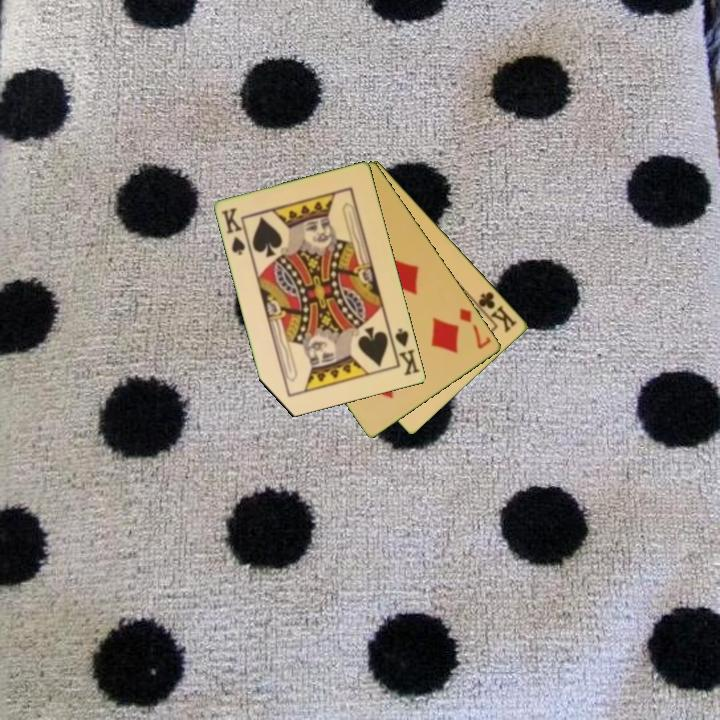7d: (456, 305, 494, 352)
Kc: (470, 288, 520, 336)
Ks: (386, 325, 423, 379), (218, 205, 249, 258)
